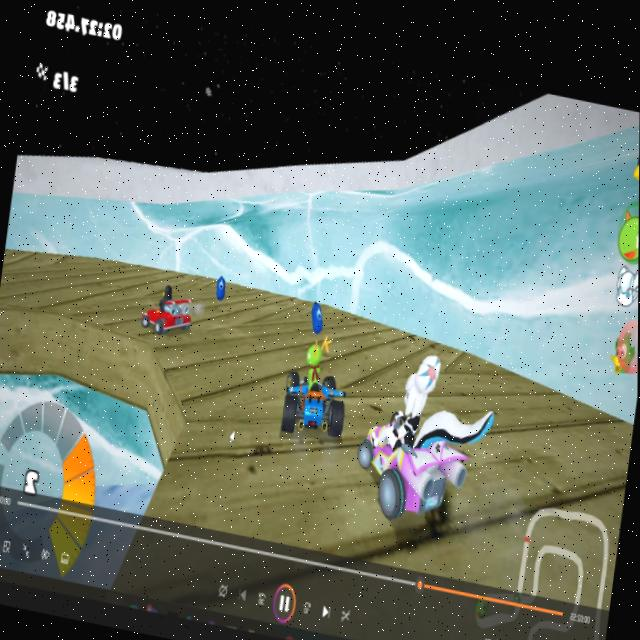enemy_kart: (345, 335, 504, 537), (136, 277, 196, 352)
nitro: (304, 289, 332, 335), (212, 261, 234, 308)
off_track: (75, 121, 542, 316)
player_kart: (273, 329, 358, 456)
track: (4, 245, 132, 335)
